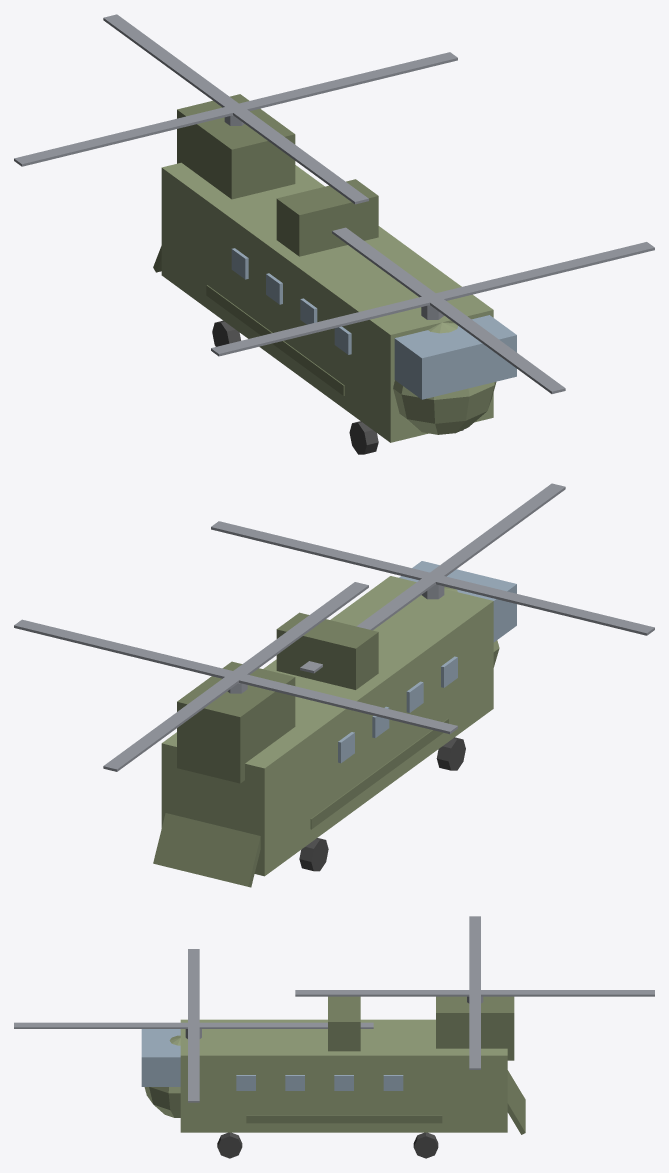
The model's file is chinook.glb.
3 views of the same model, one above another, from view 1: azimuth 30°, elevation 25°; view 2: azimuth 150°, elevation 25°; view 3: azimuth 270°, elevation 25° (orthographic). The views are drawn at different scales.
Parts seen in each view (by area): view 1: chinook, rotor_back, rotor_front; view 2: chinook, rotor_back, rotor_front; view 3: chinook, rotor_back, rotor_front.
Part boxes in pixels (bbox=[...]): chinook: bbox=[153, 94, 516, 454]; rotor_back: bbox=[14, 14, 457, 204]; rotor_front: bbox=[211, 227, 654, 393]; chinook: bbox=[153, 561, 516, 887]; rotor_back: bbox=[14, 582, 457, 771]; rotor_front: bbox=[211, 483, 654, 673]; chinook: bbox=[141, 996, 525, 1158]; rotor_back: bbox=[295, 916, 654, 1069]; rotor_front: bbox=[14, 949, 373, 1102].
Bounding box in the file's own units: 11 × 5.03 × 19.6.
